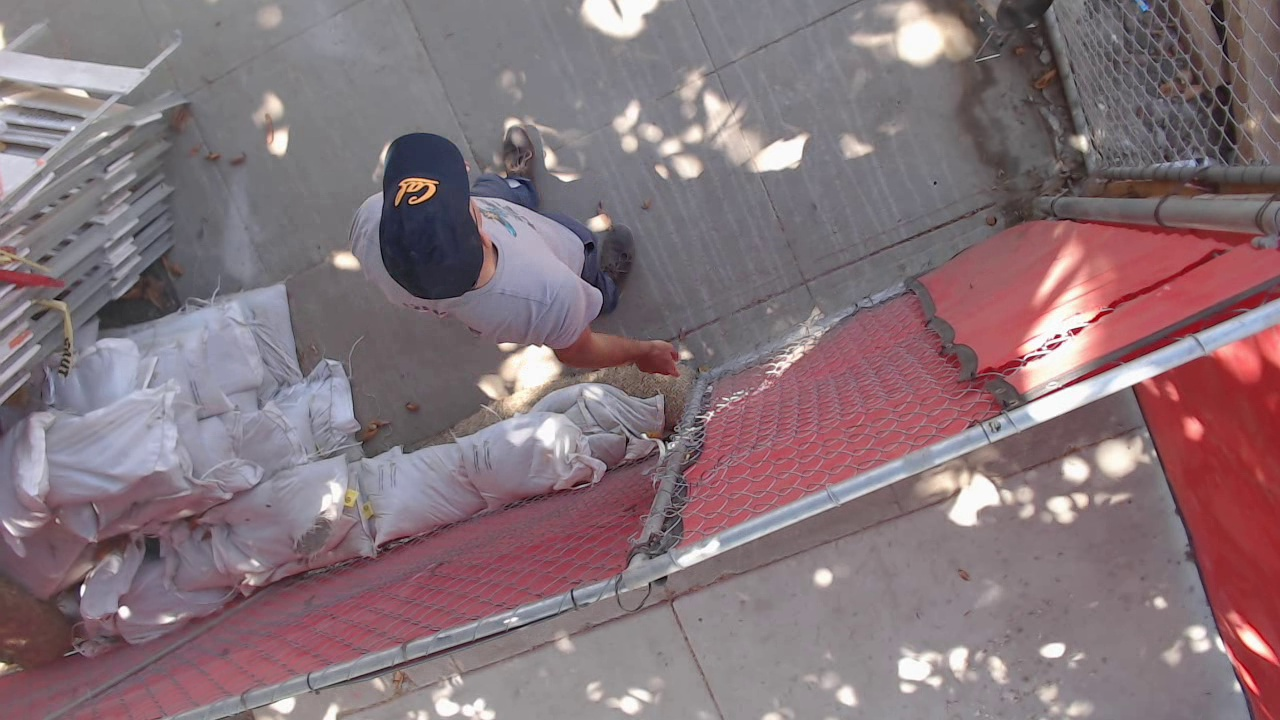person: (273, 140, 556, 381)
safetyvest: (272, 143, 528, 353)
